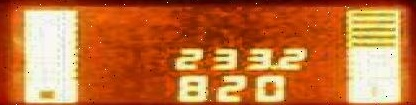-: (265, 63, 276, 69)
0: (250, 73, 284, 102)
2: (213, 73, 244, 102), (169, 46, 203, 69), (273, 46, 304, 69)
3: (206, 46, 237, 69), (242, 46, 270, 69)
8: (174, 73, 208, 102)
